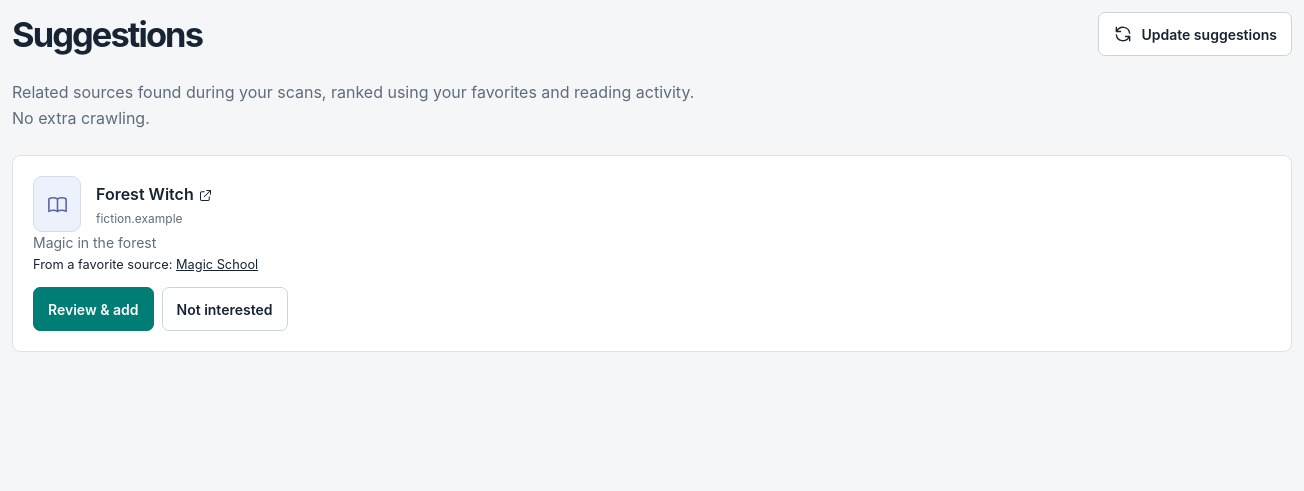
suggestion dismissal persists through API and can be undone
Click the button with aria-label "Not interested in Forest Witch". click: [224, 309]
box: [162, 287, 288, 331]
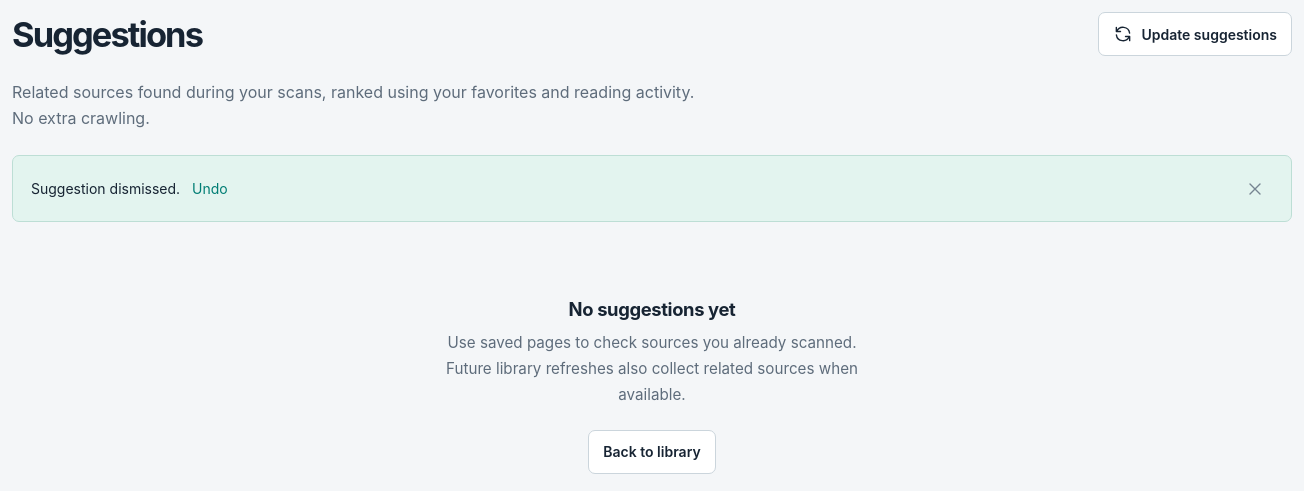
Expected: the link "Forest Witch" is gone
Click the button "Undo". click: [210, 189]
box: [184, 170, 236, 207]
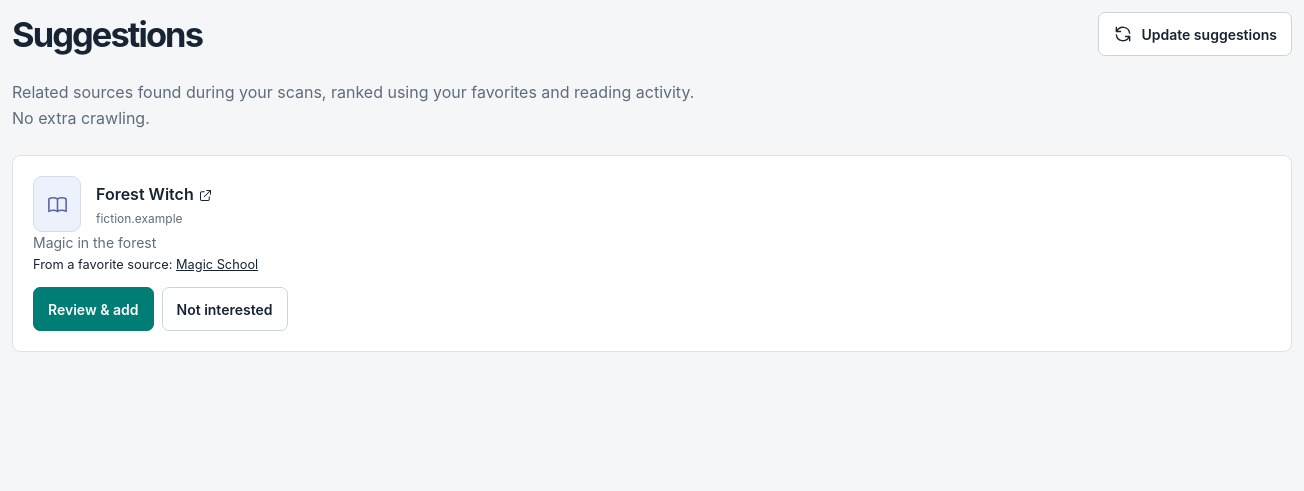
Expected: the link "Forest Witch" is shown, [96, 184, 213, 204]
